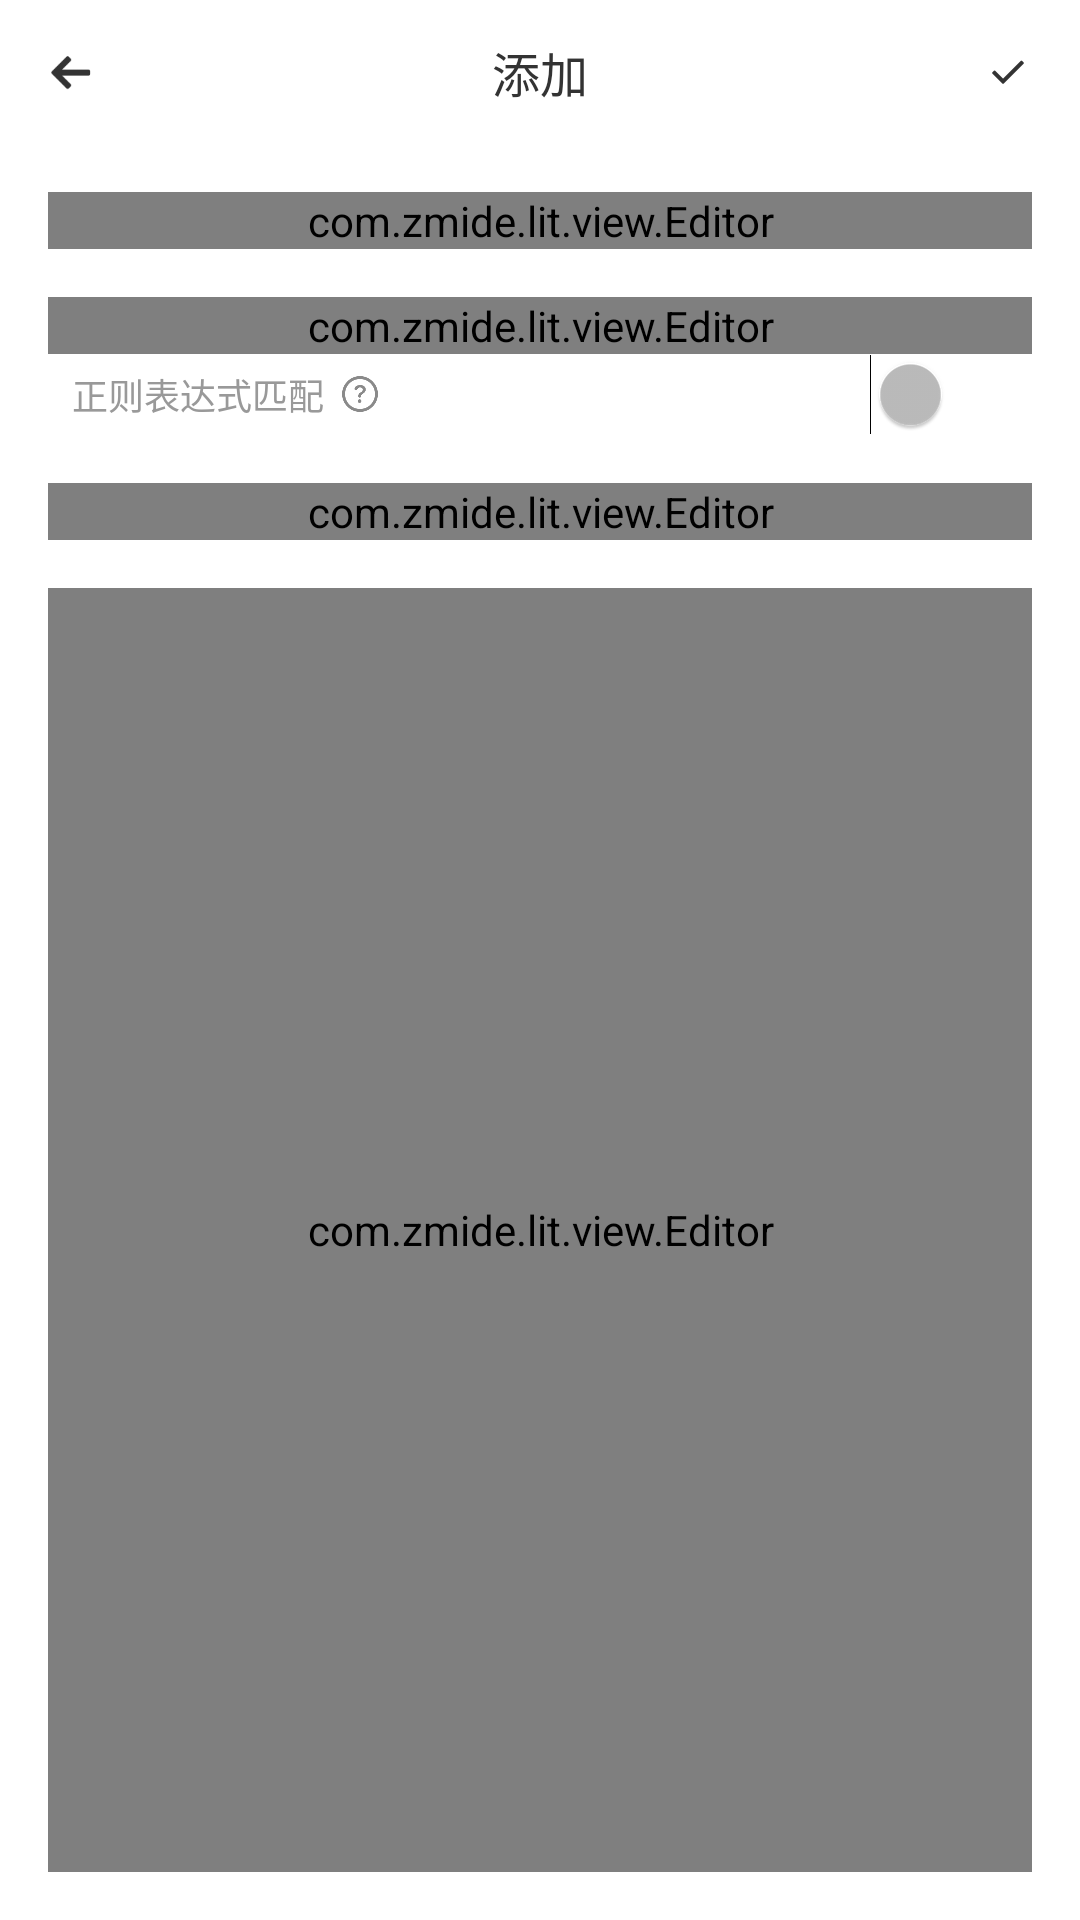

Where icons sit on this 1080px x 1920px app screen, as Rect(x1, y1, x2, y2):
back: Rect(51, 56, 91, 89)
question: Rect(342, 376, 378, 412)
